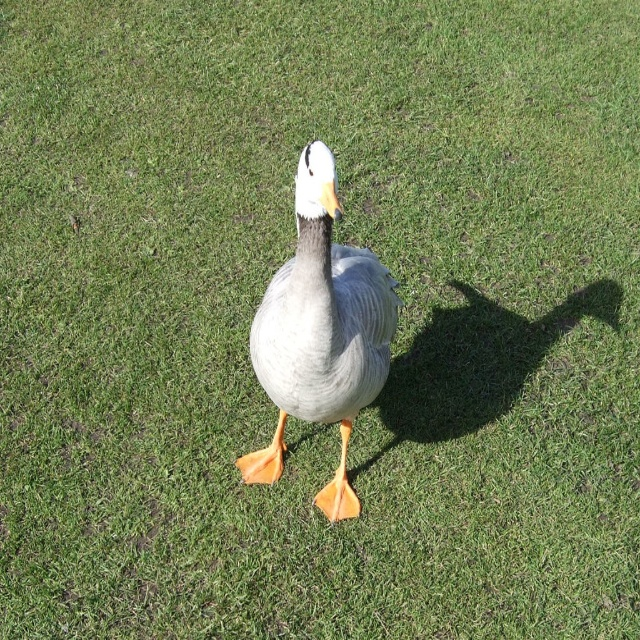Duck: (242, 156, 407, 507)
